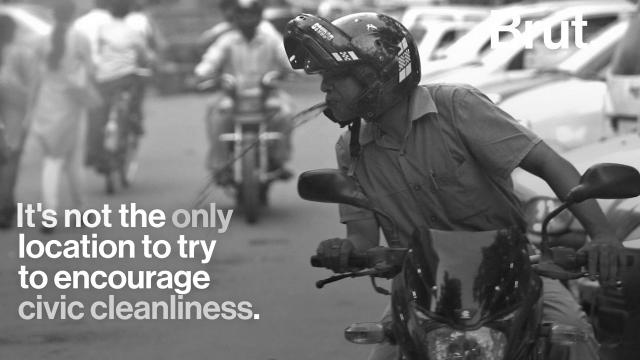spit: (184, 54, 350, 211)
